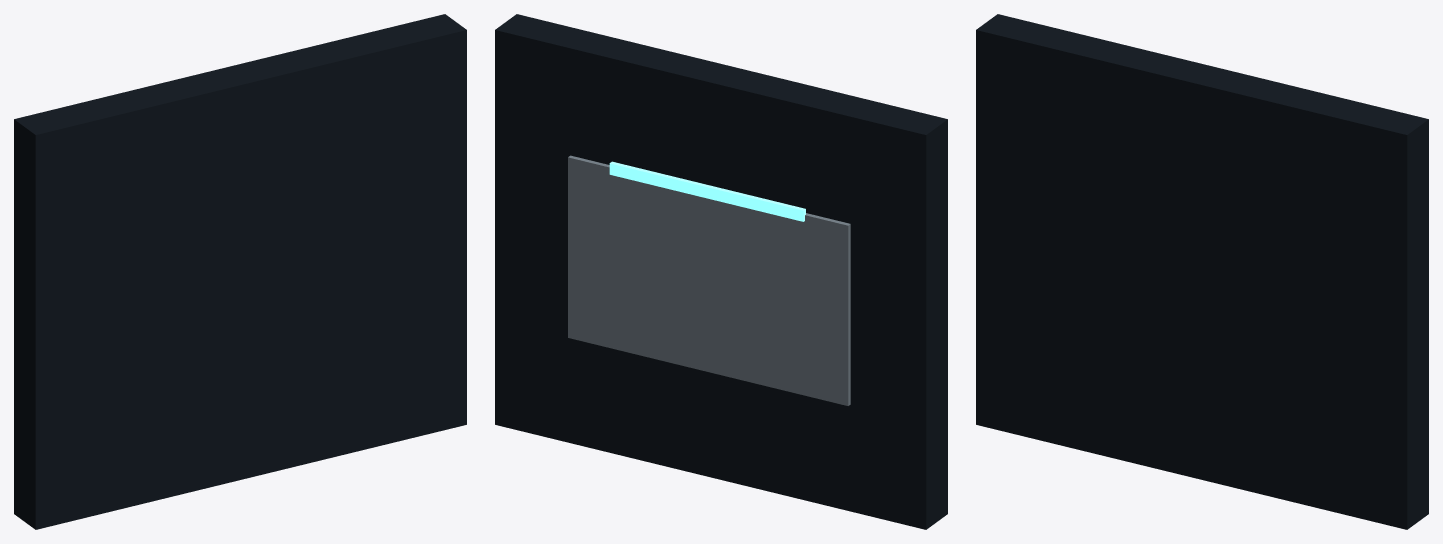
Rendered from np_kms_18_porte_entrepot_extraction.glb.
3 renders of one model, left to right at view 1: azimuth 30°, elevation 25°; view 2: azimuth 150°, elevation 25°; view 3: azimuth 330°, elevation 25°, orthographic.
Visible parts, largest first — view 1: Panneau; view 2: Panneau, Insert, GuideExtraction; view 3: Panneau.
Part boxes in pixels (left/top/right/bottom): Panneau: left=14, top=14, right=466, bottom=529; Panneau: left=495, top=14, right=947, bottom=529; Insert: left=568, top=155, right=850, bottom=405; GuideExtraction: left=609, top=161, right=805, bottom=221; Panneau: left=976, top=14, right=1428, bottom=529.
Size of the model in its own units: 4 by 3.5 by 0.415.
